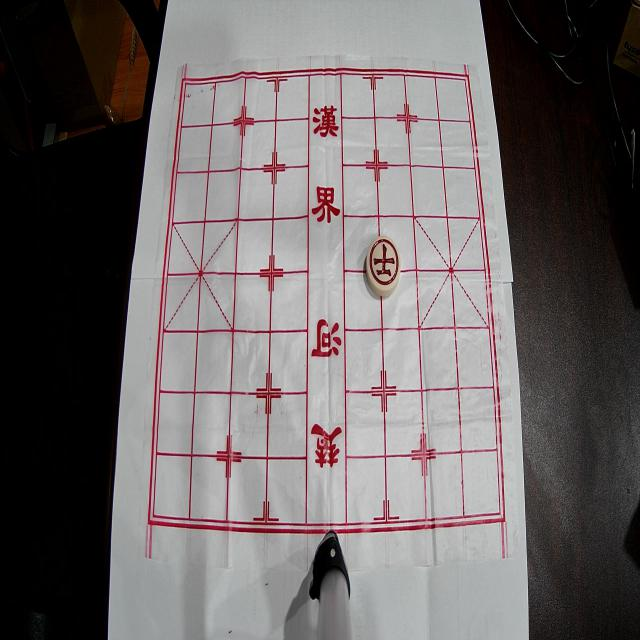red-guard: (366, 235, 401, 297)
